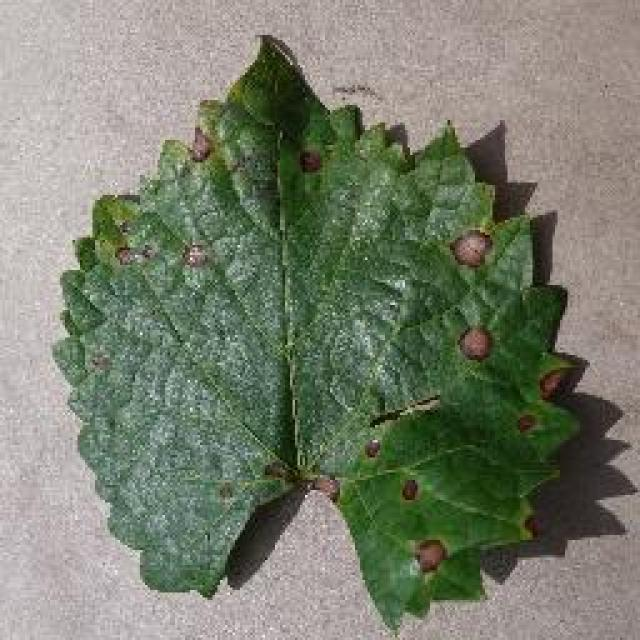Grape___Black_rot: (48, 29, 593, 638)
